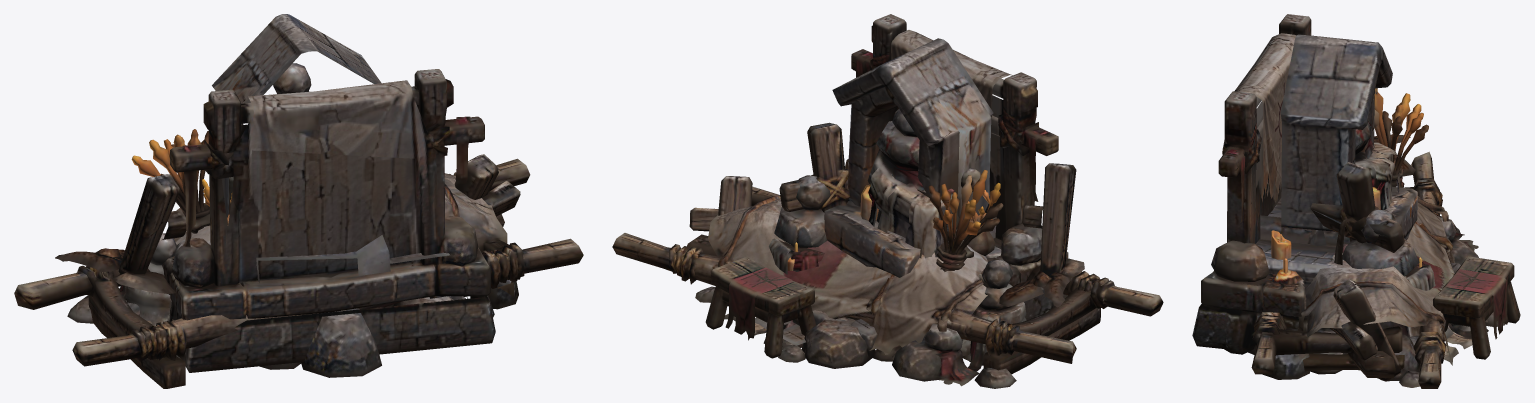
Rendered from kit-camp-shrine.glb.
3 renders of one model, left to right at view 1: azimuth 30°, elevation 25°; view 2: azimuth 150°, elevation 25°; view 3: azimuth 270°, elevation 25°, orthographic. The views are drawn at different scales.
Parts seen in each view (by area): view 1: shrine_06_altar, shrine_05_covered_body, shrine_01_shrine, shrine_04_cairn, shrine_03_grave_row; view 2: shrine_05_covered_body, shrine_01_shrine, shrine_06_altar, shrine_04_cairn, shrine_03_grave_row, shrine_02_fresh_grave; view 3: shrine_06_altar, shrine_01_shrine, shrine_05_covered_body, shrine_04_cairn, shrine_02_fresh_grave, shrine_03_grave_row.
Boxes of the visible parts, left/top/right/bottom form: shrine_06_altar: left=125, top=69, right=518, bottom=372; shrine_05_covered_body: left=14, top=158, right=583, bottom=388; shrine_01_shrine: left=131, top=14, right=462, bottom=358; shrine_04_cairn: left=67, top=63, right=465, bottom=377; shrine_03_grave_row: left=55, top=154, right=520, bottom=293; shrine_05_covered_body: left=612, top=186, right=1163, bottom=374; shrine_01_shrine: left=755, top=38, right=1003, bottom=361; shrine_06_altar: left=705, top=14, right=1068, bottom=358; shrine_04_cairn: left=695, top=109, right=1026, bottom=388; shrine_03_grave_row: left=689, top=163, right=1084, bottom=307; shrine_02_fresh_grave: left=779, top=122, right=981, bottom=257; shrine_06_altar: left=1192, top=14, right=1520, bottom=379; shrine_01_shrine: left=1256, top=34, right=1470, bottom=344; shrine_05_covered_body: left=1251, top=151, right=1455, bottom=388; shrine_04_cairn: left=1213, top=119, right=1505, bottom=387; shrine_02_fresh_grave: left=1310, top=162, right=1404, bottom=264; shrine_03_grave_row: left=1330, top=134, right=1415, bottom=381.
Bounding box in the file's own units: 3.57 × 1.87 × 2.14.
Materials: 1 (1 with a texture image).
